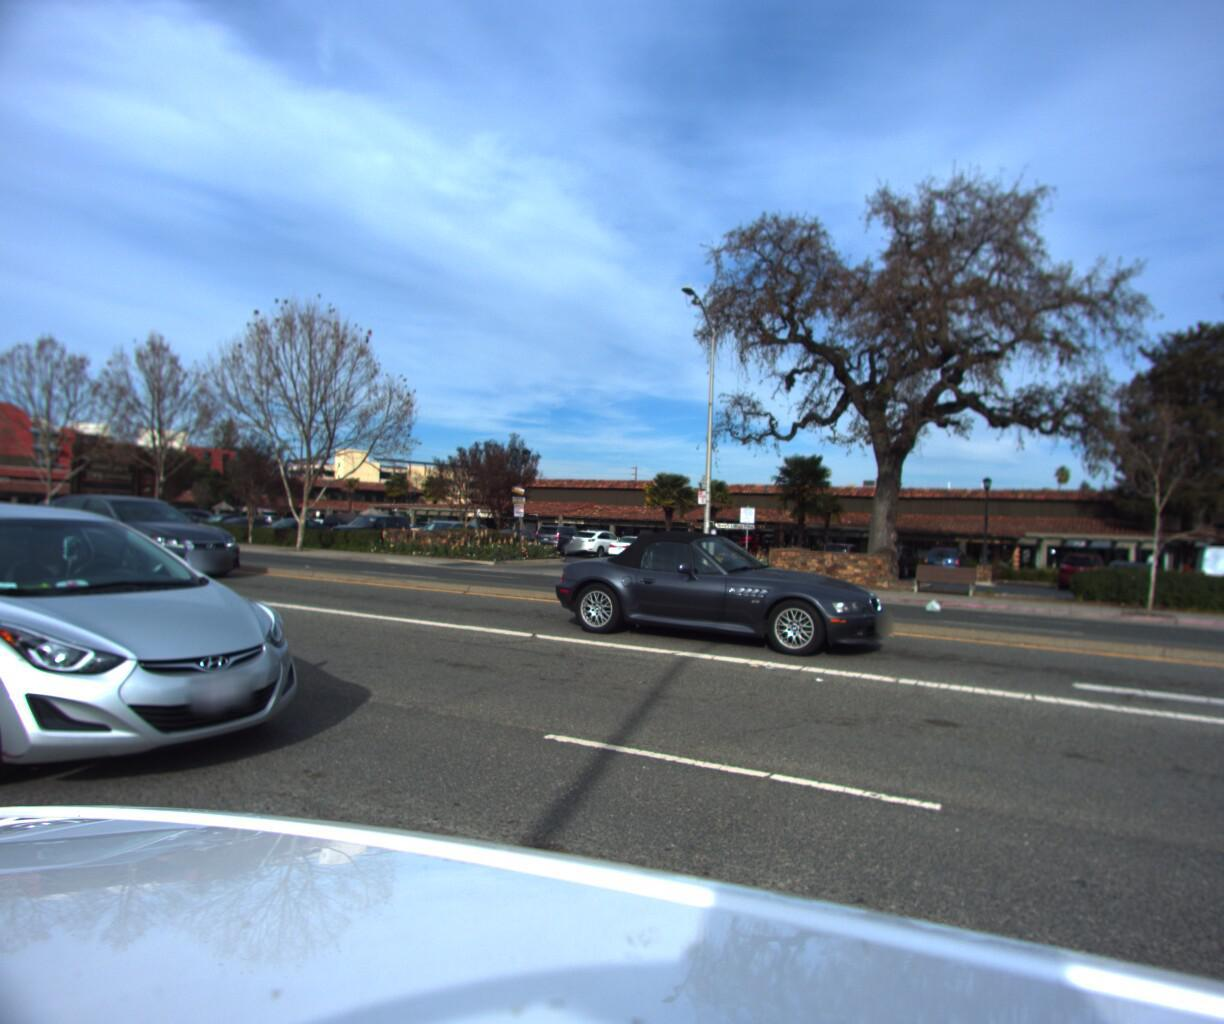car: (0, 486, 358, 826), (541, 518, 901, 656), (7, 492, 262, 582), (397, 516, 487, 558), (1095, 551, 1166, 601)
